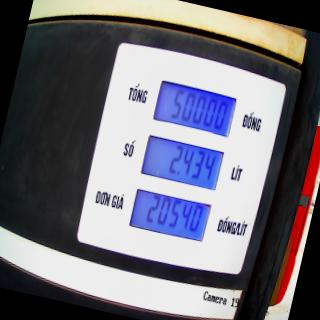screen: (124, 76, 240, 247)
